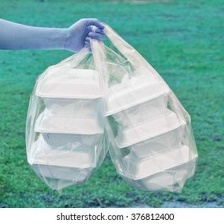foam_box: (115, 135, 200, 194), (107, 105, 189, 162), (99, 75, 173, 131), (25, 132, 101, 184), (33, 64, 107, 117), (29, 104, 109, 150)
plastic_bag: (79, 18, 202, 200), (24, 22, 108, 196)
